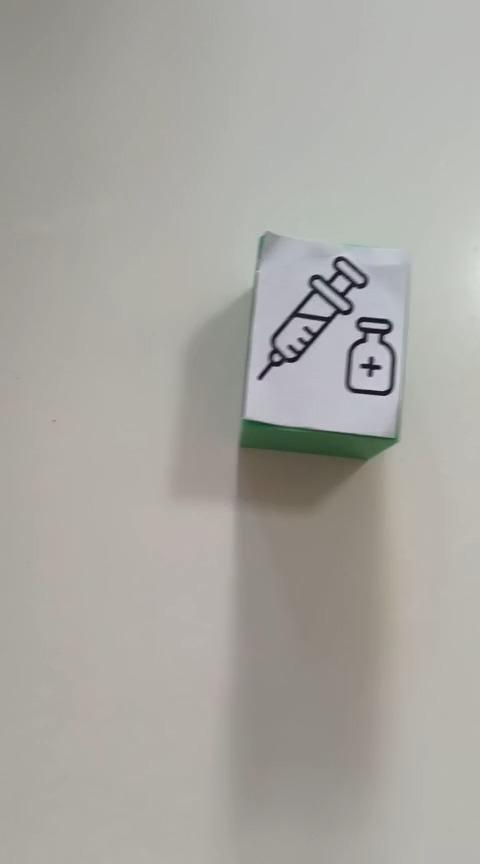antiseptic cream: (238, 229, 410, 461)
